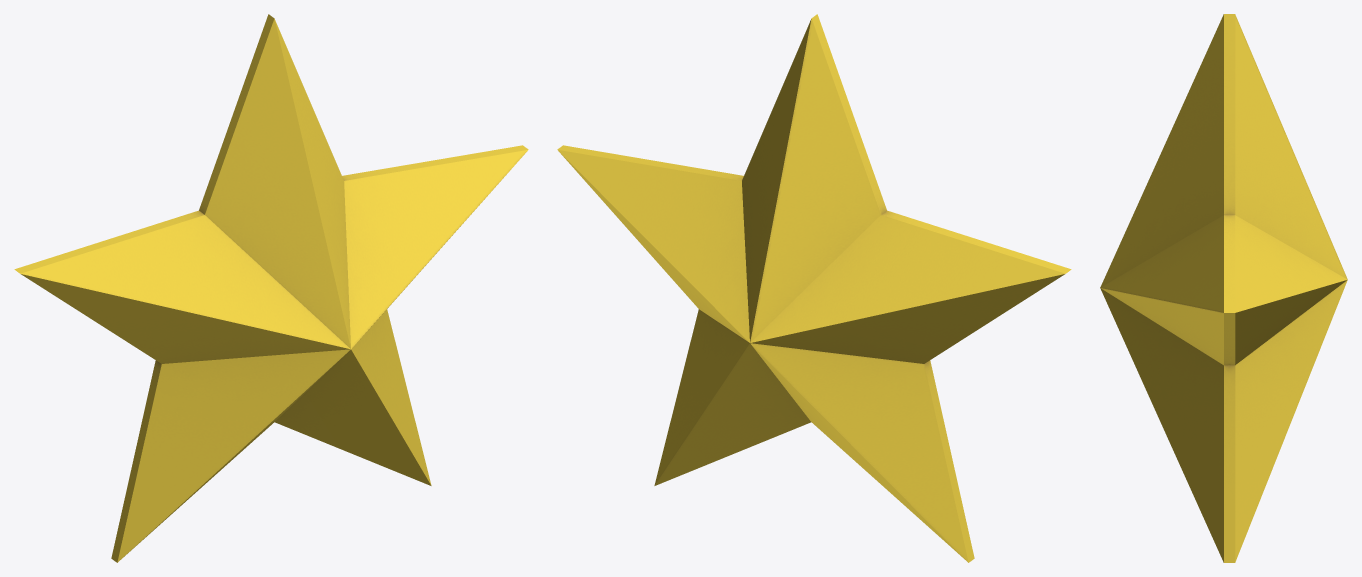
The model's file is star.glb.
3 renders of one model, left to right at view 1: azimuth 30°, elevation 25°; view 2: azimuth 150°, elevation 25°; view 3: azimuth 270°, elevation 25°, orthographic. The views are drawn at different scales.
Parts seen in each view (by area): view 1: Star; view 2: Star; view 3: Star.
Part boxes in pixels (box(x1,y1,x2,y2)): Star: box(14, 14, 528, 562); Star: box(557, 14, 1071, 562); Star: box(1100, 14, 1347, 562).
Size of the model in its own units: 0.7339 by 0.6979 by 0.3287.
1 material, 1 textured.
